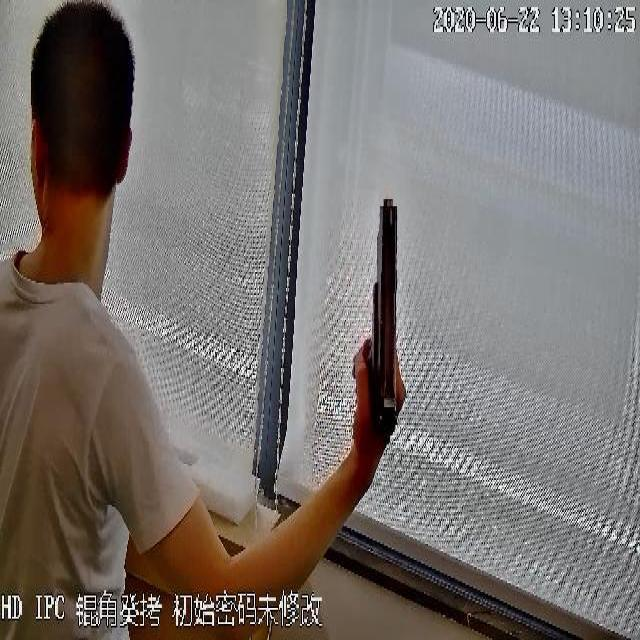pistol: (362, 194, 402, 442)
